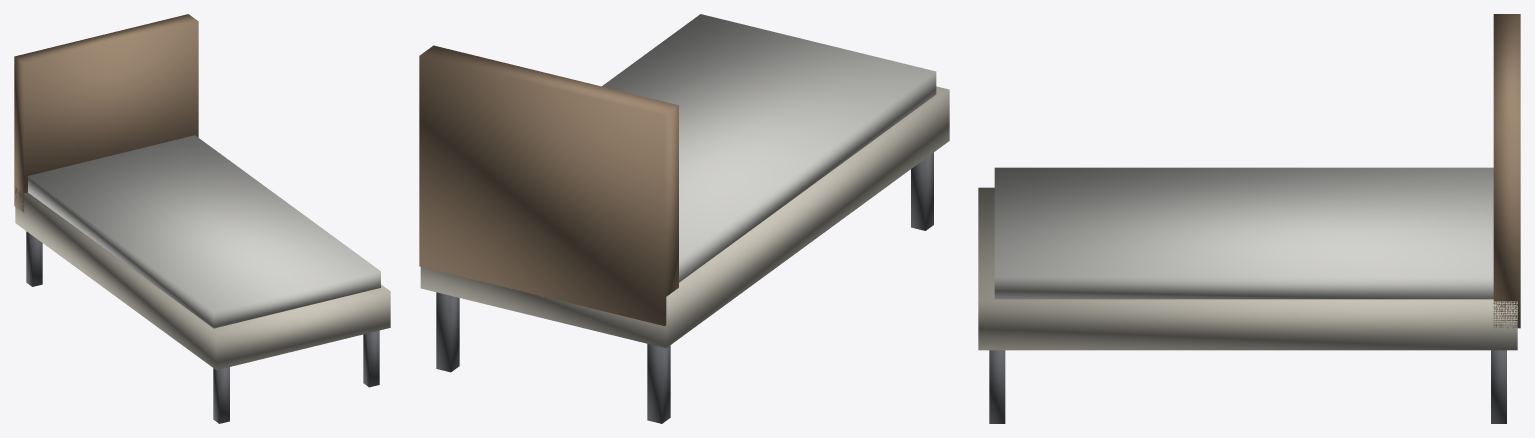
Rendered from single_bed.glb.
The picture shows the model from 3 angles, left to right: view 1: azimuth 30°, elevation 25°; view 2: azimuth 150°, elevation 25°; view 3: azimuth 270°, elevation 25°; orthographic projection. The views are drawn at different scales.
Visible parts, largest first — view 1: world; view 2: world; view 3: world.
Boxes of the visible parts, box(x1,y1,x2,y2) form: world: box(14, 14, 390, 423); world: box(419, 14, 949, 423); world: box(978, 14, 1520, 423).
Size of the model in its own units: 1 by 1.23 by 2.01.
